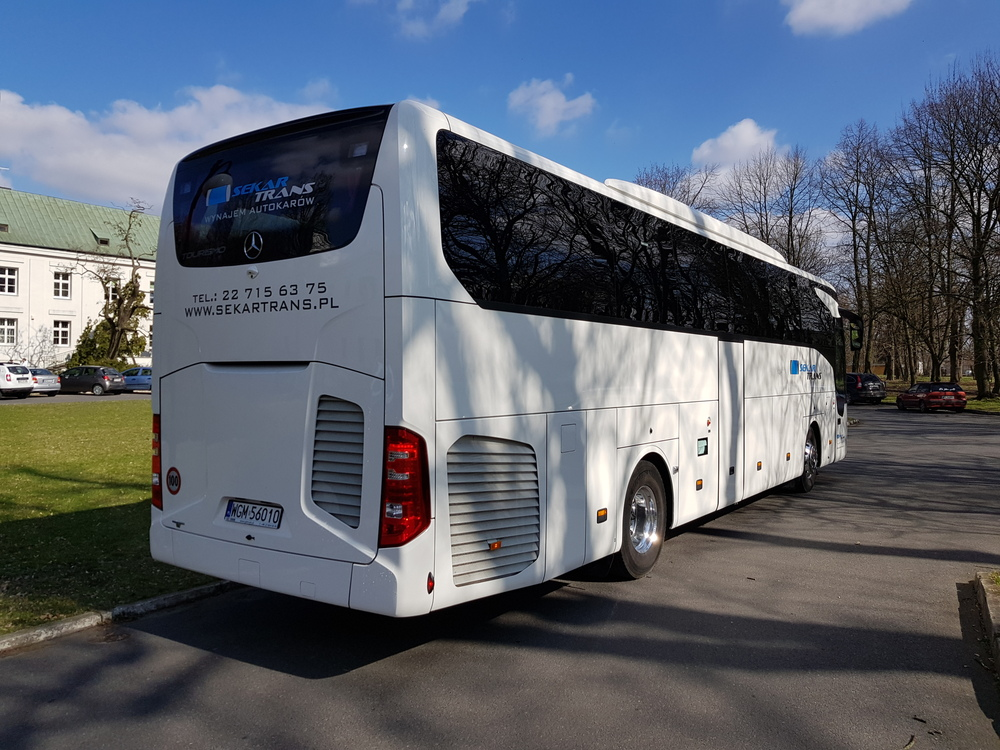tablica: (227, 500, 282, 529)
